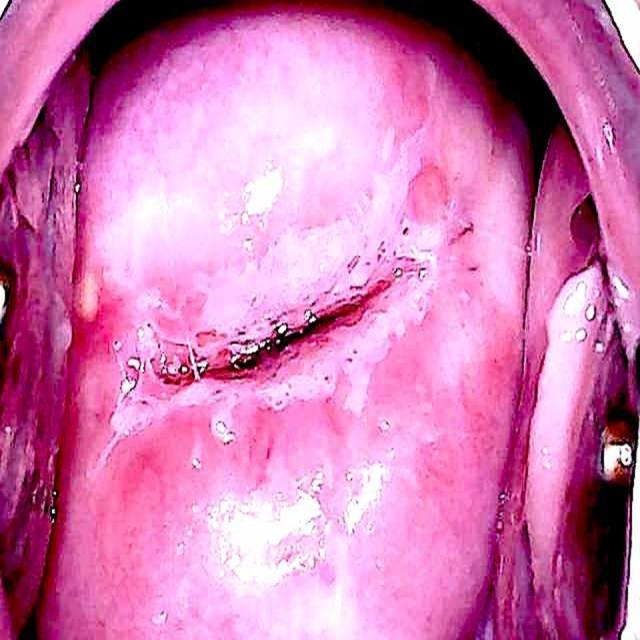cervical_lesion: (84, 84, 640, 640)
